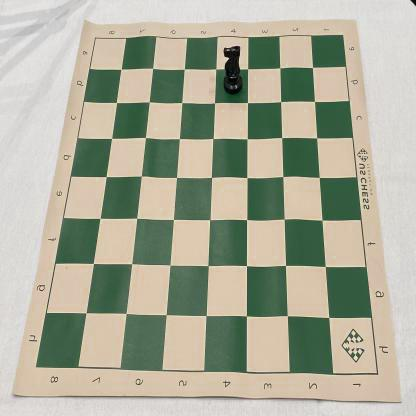black-knight: (222, 44, 244, 96)
